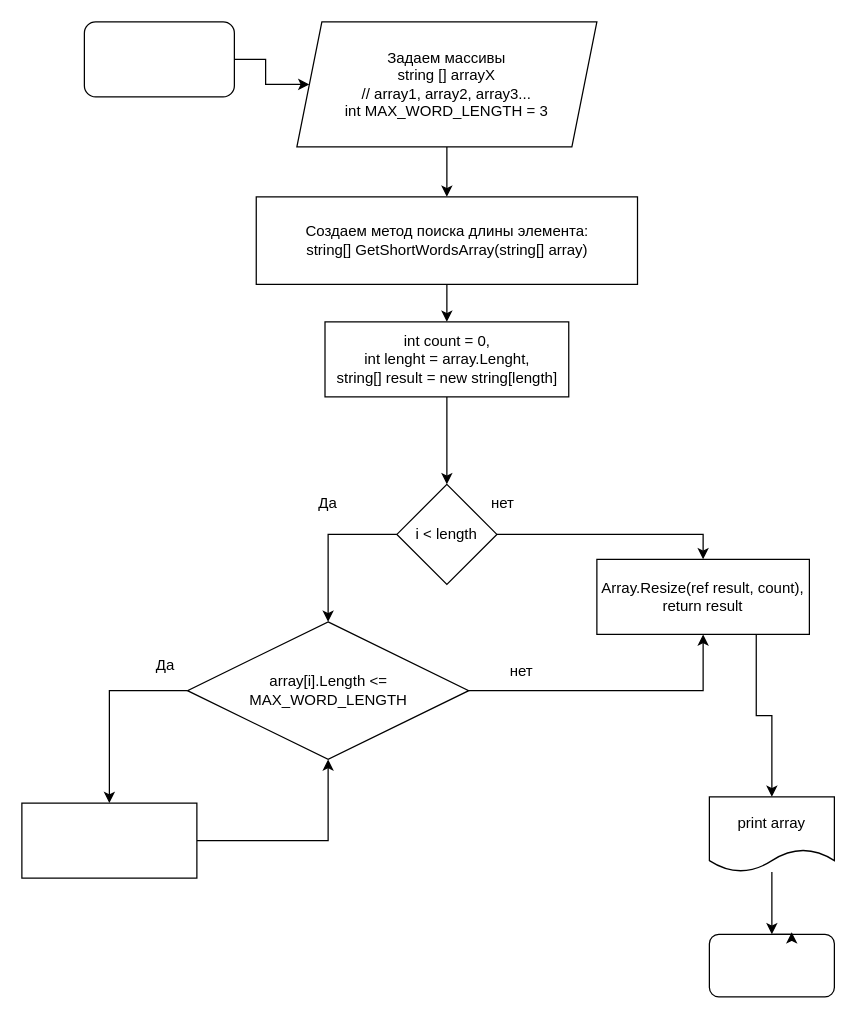
Some shapes in this 856 by 1019 pixel diagram are drawn without their labels. The shapes that lost their labels are listed below. From the top down, each one's centre as x and y in pixels, then its label:
At (158,59): "start".
At (109,840): "result[count] = array[i], count++".
At (771,965): "end".
